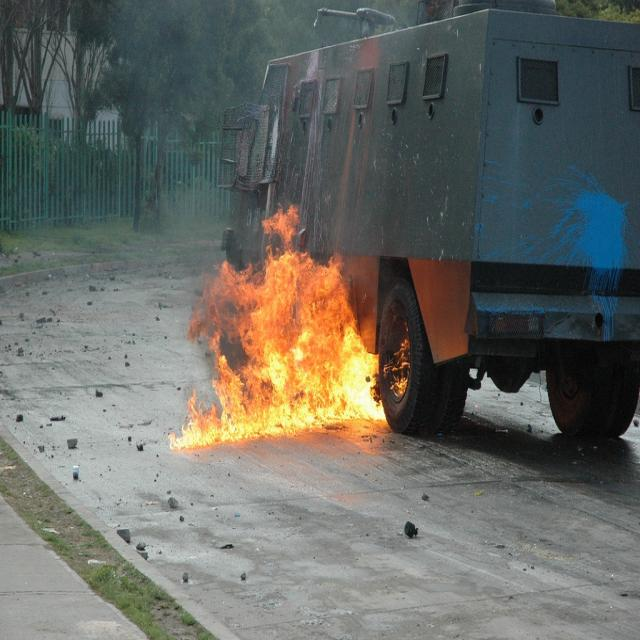fire: (180, 208, 402, 441)
